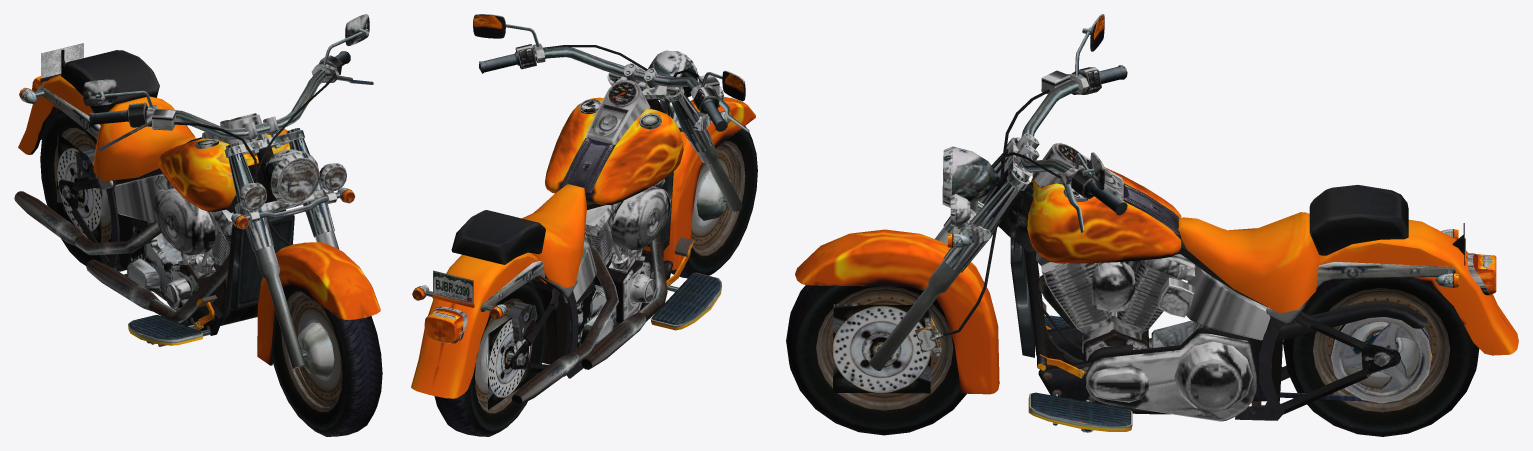
The picture shows the model from 3 angles, left to right: view 1: azimuth 30°, elevation 25°; view 2: azimuth 150°, elevation 25°; view 3: azimuth 270°, elevation 25°; orthographic projection. The views are drawn at different scales.
Size of the model in its own units: 236 by 245 by 475.
Materials: 6 (6 with a texture image).
